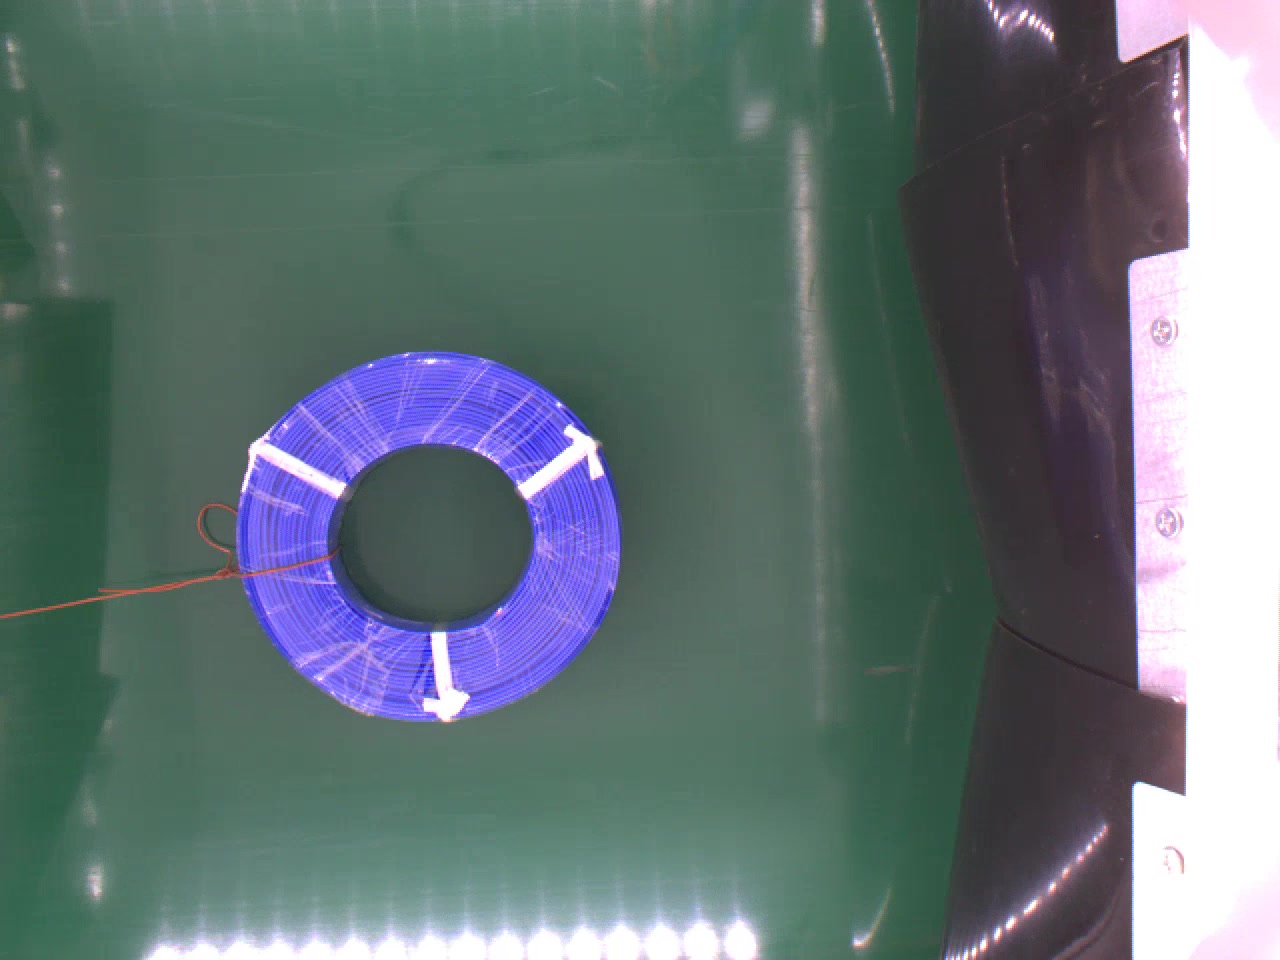blue: (226, 341, 626, 727)
